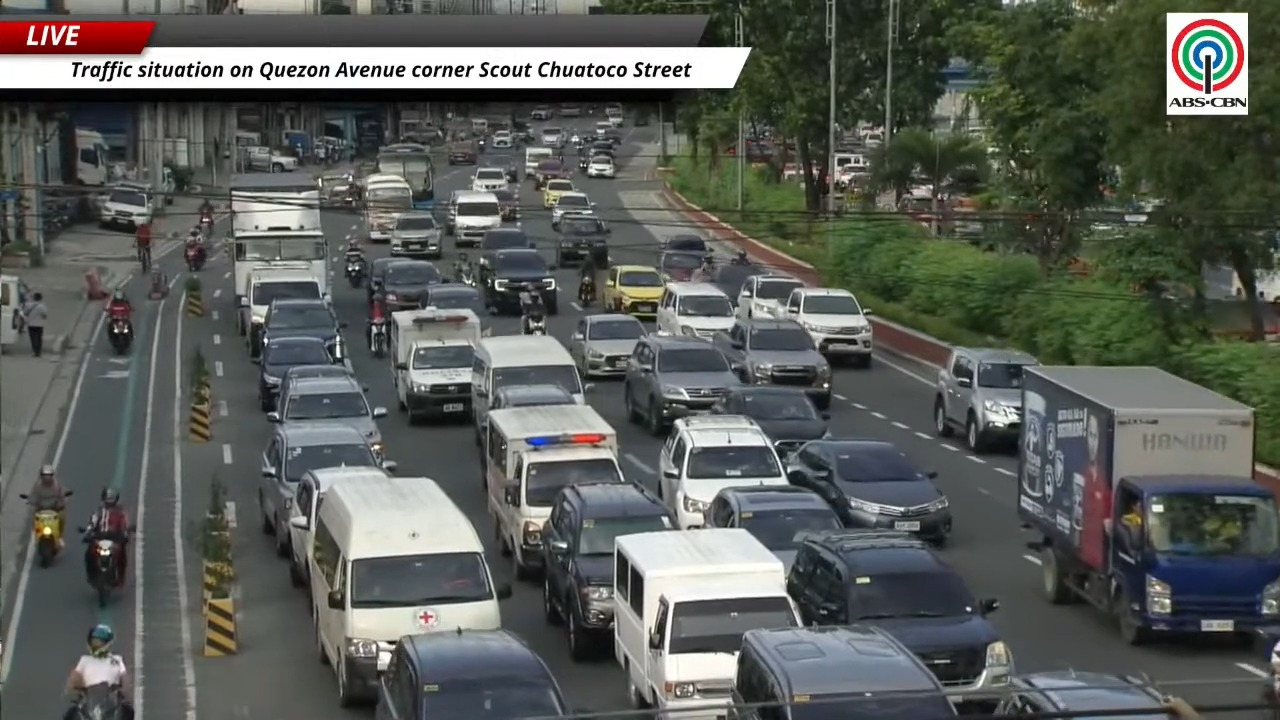bus: (376, 143, 434, 209), (361, 174, 414, 242)
car: (787, 529, 1013, 703), (541, 482, 672, 660), (725, 624, 955, 719), (375, 628, 571, 719), (257, 425, 394, 555), (787, 438, 951, 544), (657, 415, 788, 529), (283, 461, 396, 587), (623, 335, 740, 435), (704, 485, 842, 569), (933, 347, 1038, 452), (712, 318, 831, 409), (268, 378, 386, 458), (995, 670, 1169, 718), (711, 385, 828, 456), (784, 288, 872, 367), (258, 336, 332, 412), (568, 313, 645, 378), (484, 249, 557, 314), (655, 282, 734, 339), (261, 299, 342, 346), (276, 364, 357, 404), (602, 265, 663, 316), (382, 260, 443, 311), (553, 214, 610, 266), (736, 274, 803, 318), (419, 283, 486, 327), (707, 262, 760, 312), (390, 211, 442, 258), (478, 226, 534, 268), (489, 384, 576, 410), (366, 256, 401, 304), (551, 192, 594, 229), (658, 251, 704, 281), (317, 172, 352, 206), (533, 160, 571, 189), (661, 233, 710, 255), (541, 178, 576, 208), (493, 187, 519, 221), (471, 168, 508, 191), (586, 155, 615, 178), (447, 145, 477, 165), (540, 127, 566, 149), (588, 140, 615, 159), (601, 127, 622, 147), (490, 130, 513, 148), (594, 120, 612, 141), (559, 103, 582, 117), (530, 106, 553, 120), (607, 110, 624, 127), (577, 151, 589, 173), (632, 112, 649, 126)
motorcycle: (89, 538, 121, 607), (32, 509, 62, 567), (75, 683, 123, 719), (108, 317, 132, 354), (369, 318, 386, 357), (184, 243, 205, 272), (345, 258, 364, 287), (522, 316, 547, 336), (578, 277, 595, 306), (455, 262, 475, 286), (199, 212, 214, 237), (477, 138, 485, 153)
truck: (1017, 366, 1279, 644), (613, 528, 801, 718), (482, 406, 624, 578), (228, 173, 328, 307), (388, 307, 481, 421)
